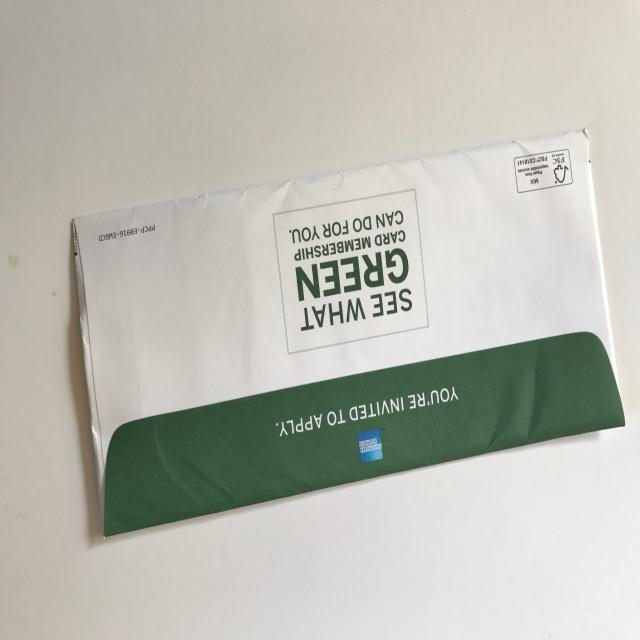paper: (71, 128, 626, 540)
